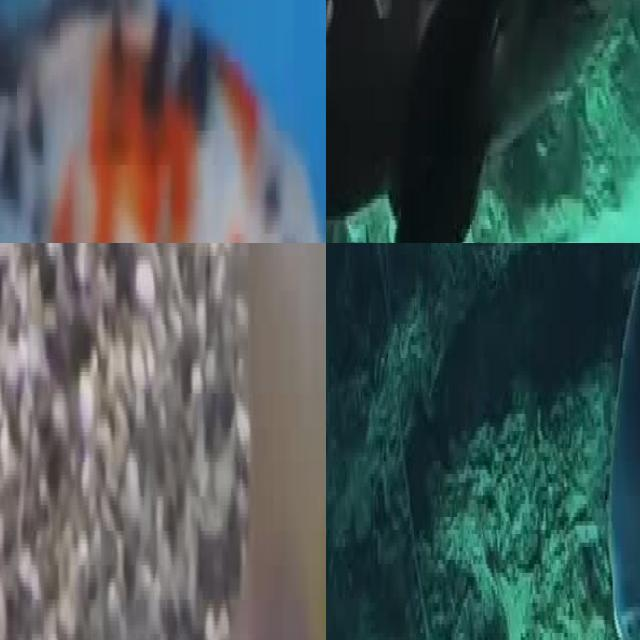fish: (0, 0, 326, 243), (326, 0, 640, 243)
